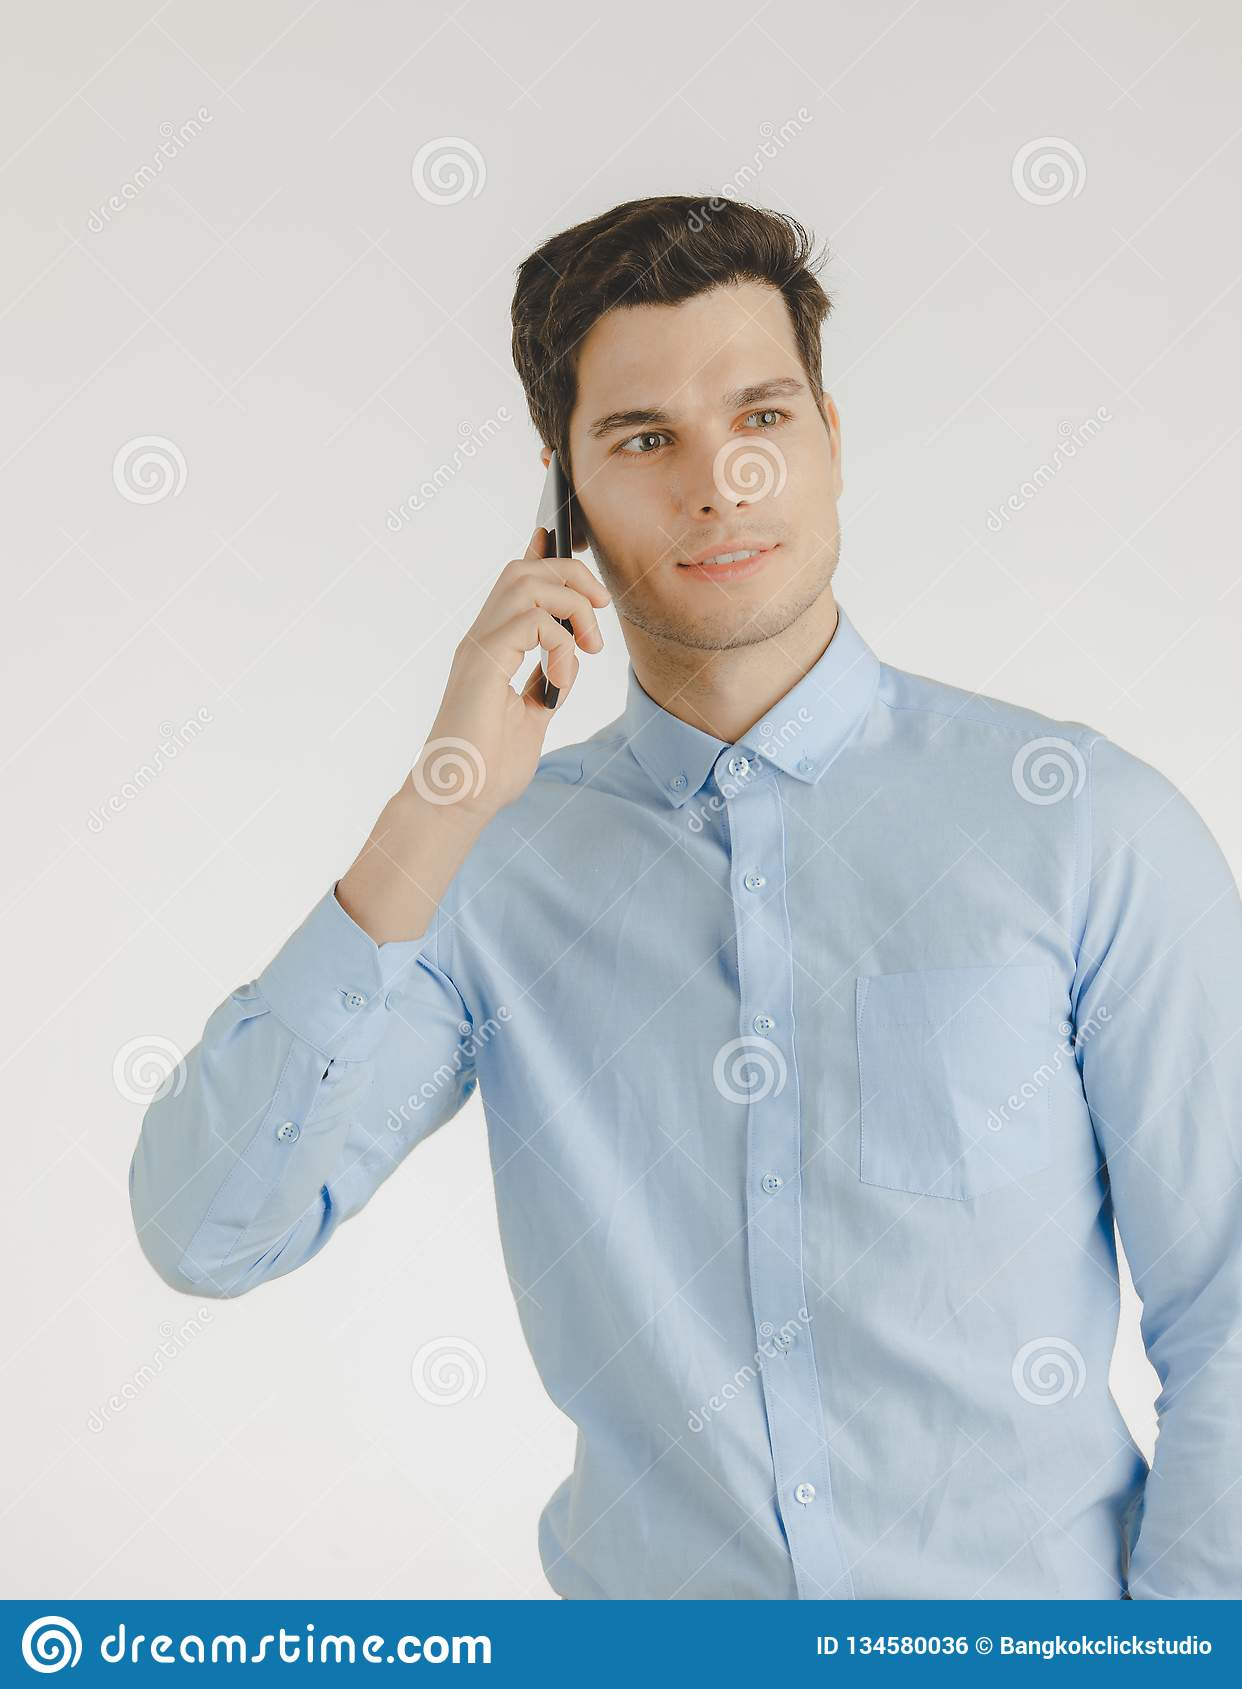phone: (519, 437, 590, 730)
talk: (424, 362, 835, 850)
